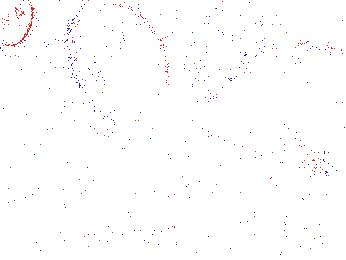moon jellyfish: (69, 1, 170, 120), (239, 140, 331, 218), (191, 1, 256, 91), (292, 42, 346, 112), (1, 1, 34, 47)
